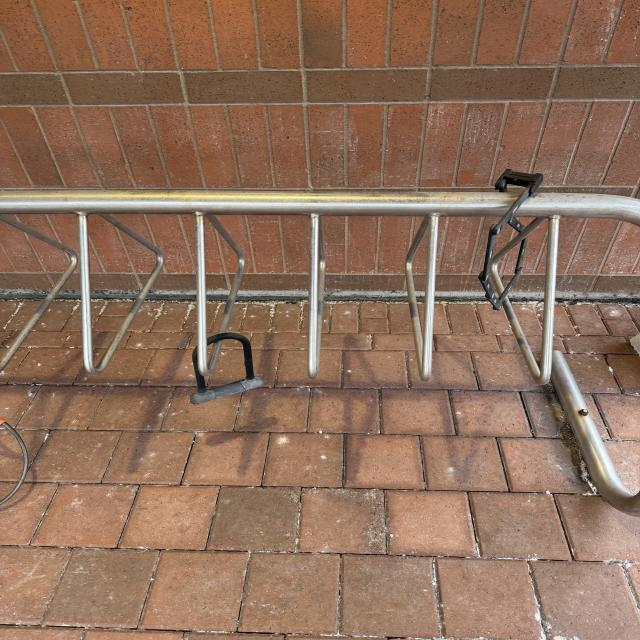Bicycle Rack: (0, 182, 640, 514)
